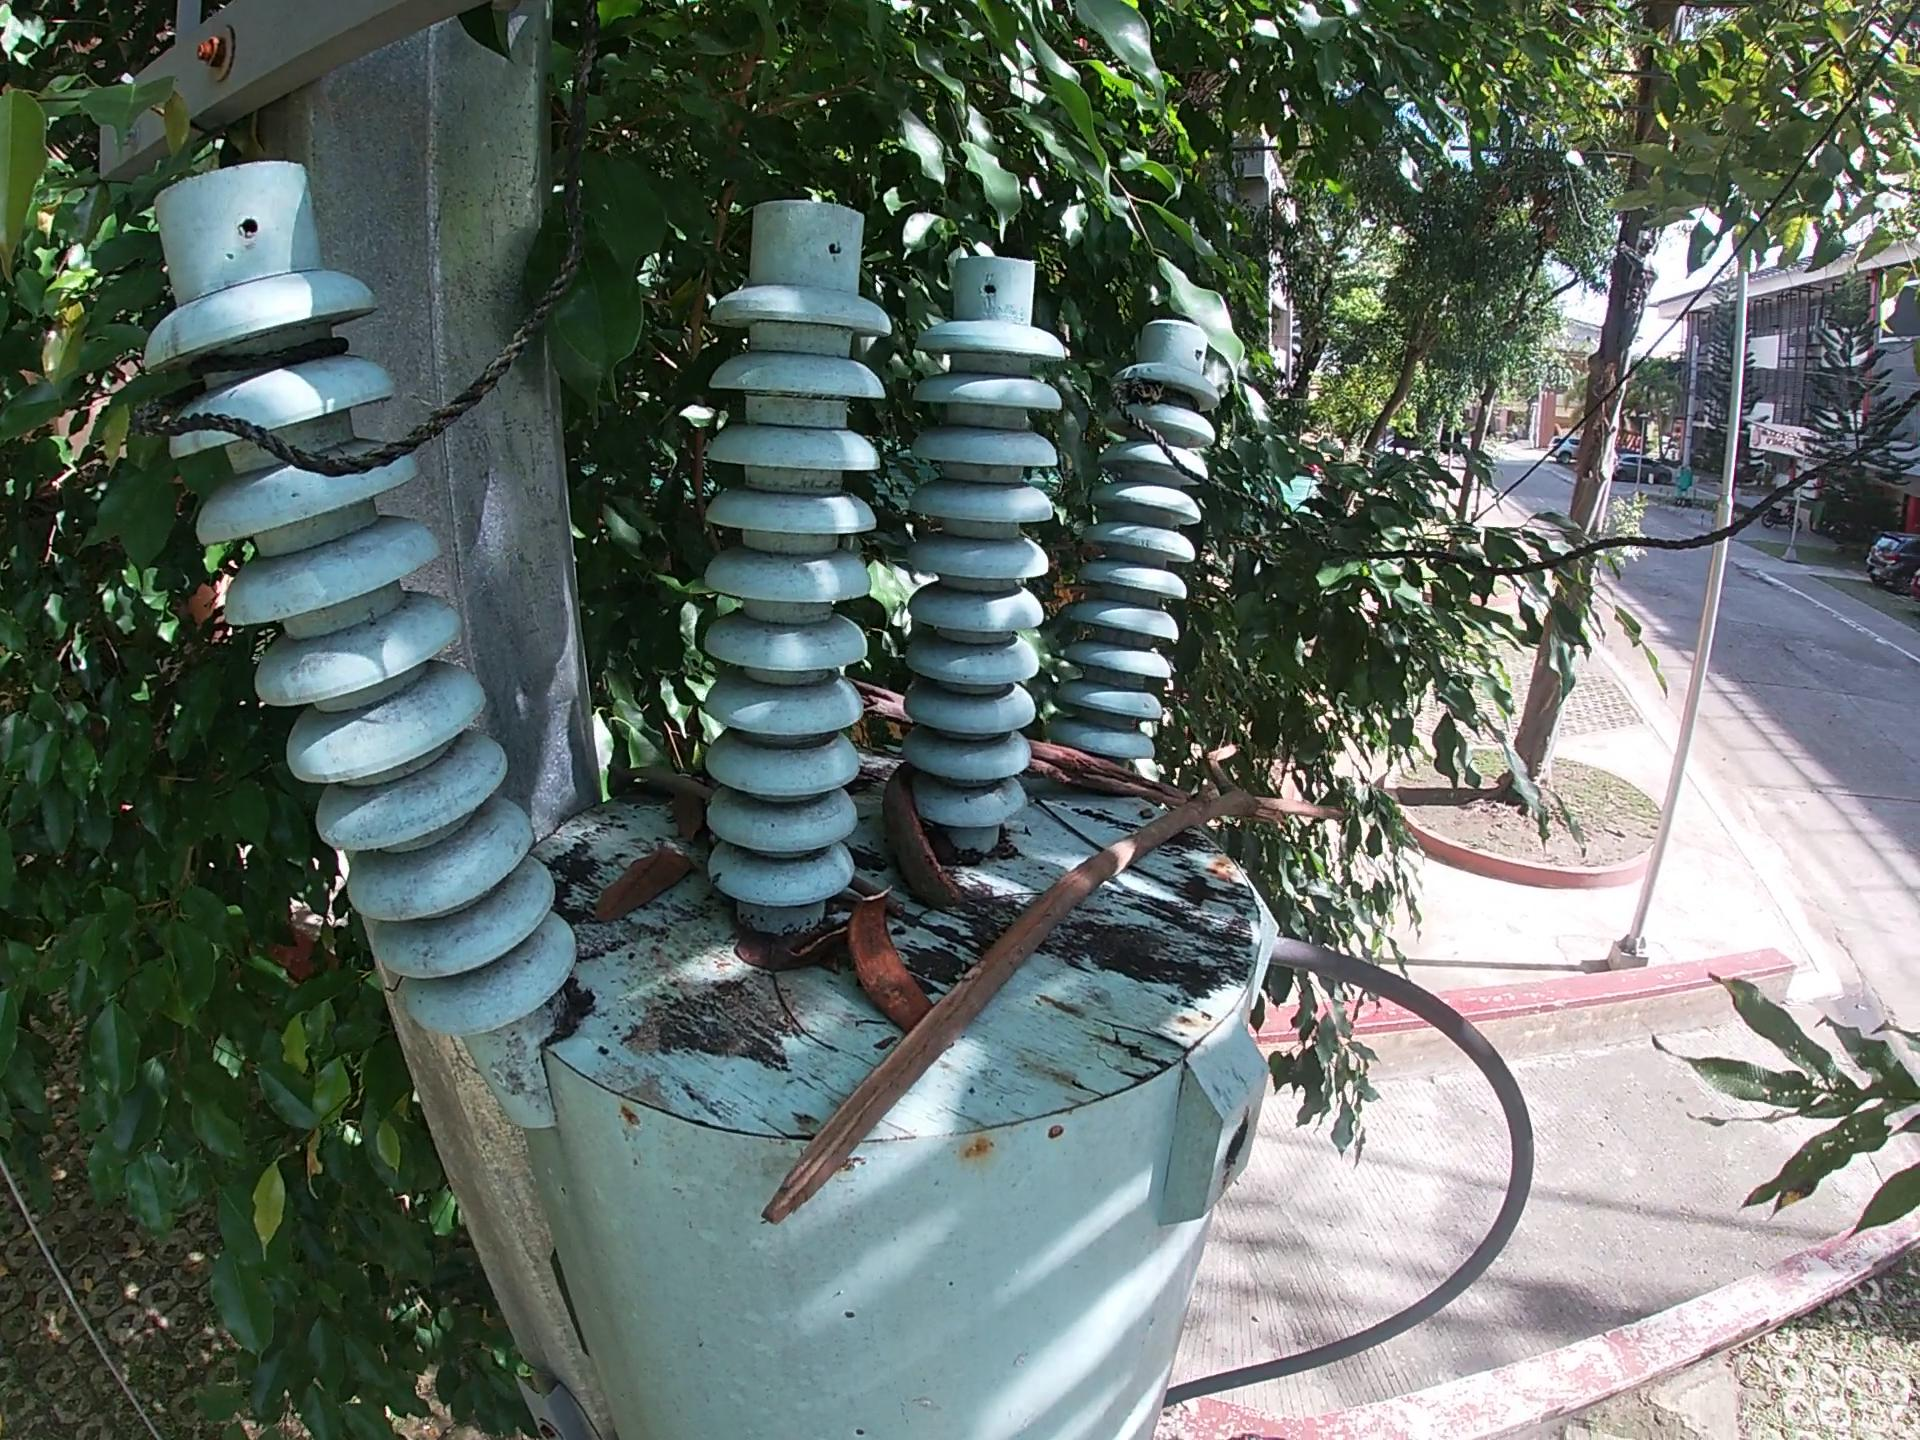leaf: (591, 838, 695, 930), (732, 926, 806, 979), (670, 788, 714, 849)
mahogany fruit: (844, 883, 937, 1035), (877, 759, 968, 912)
tree branch: (751, 740, 1361, 1227), (847, 673, 1200, 811), (602, 765, 717, 811), (847, 877, 904, 914)
